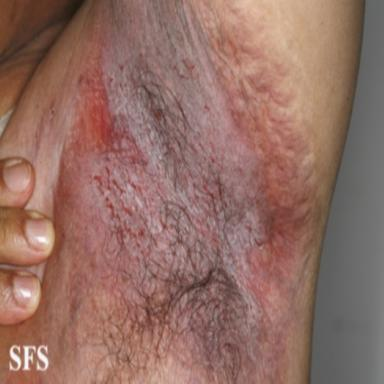Hailey-Hailey-Disease: (89, 3, 271, 379)
